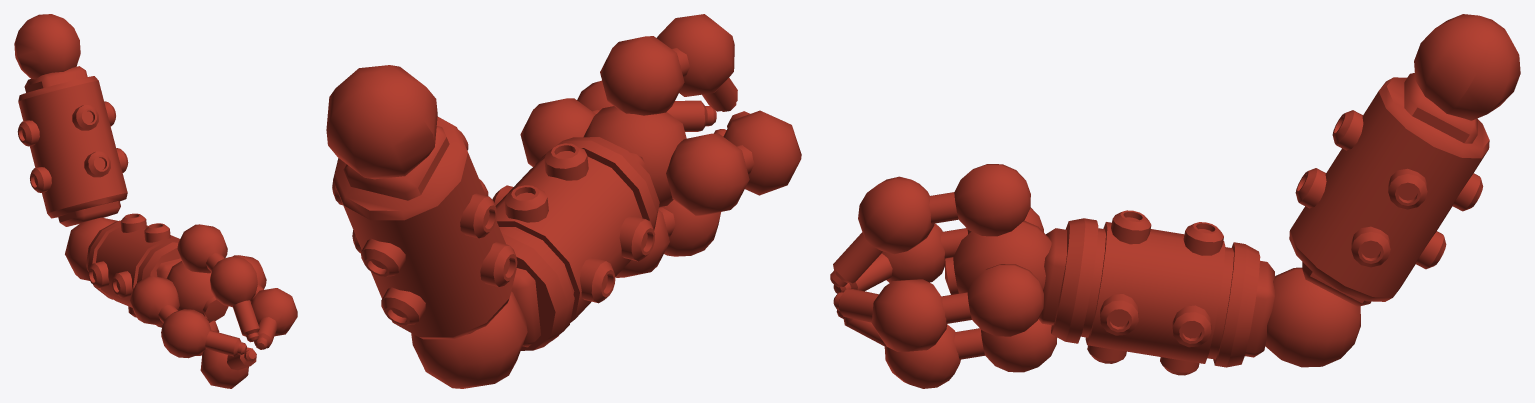
Rendered from ggj_project_bot_arm_003.fbx.
3 views of the same model, side by side, from view 1: azimuth 30°, elevation 25°; view 2: azimuth 150°, elevation 25°; view 3: azimuth 270°, elevation 25° (orthographic). The views are drawn at different scales.
Parts seen in each view (by area): view 1: Cylinder.000, Sphere.009, Sphere.008; view 2: Cylinder.000, Sphere.009, Sphere.008; view 3: Cylinder.000, Sphere.009, Sphere.008.
Part boxes in pixels (x1,y1,x2,y2): Cylinder.000: (14,14,128,226); Sphere.009: (130,224,297,388); Sphere.008: (65,213,181,327); Cylinder.000: (326,65,517,339); Sphere.009: (520,14,801,277); Sphere.008: (411,137,659,388); Cylinder.000: (1289,14,1520,306); Sphere.009: (830,164,1057,388); Sphere.008: (1038,210,1360,375).
Bounding box in the file's own units: 51.25 × 90.15 × 154.
